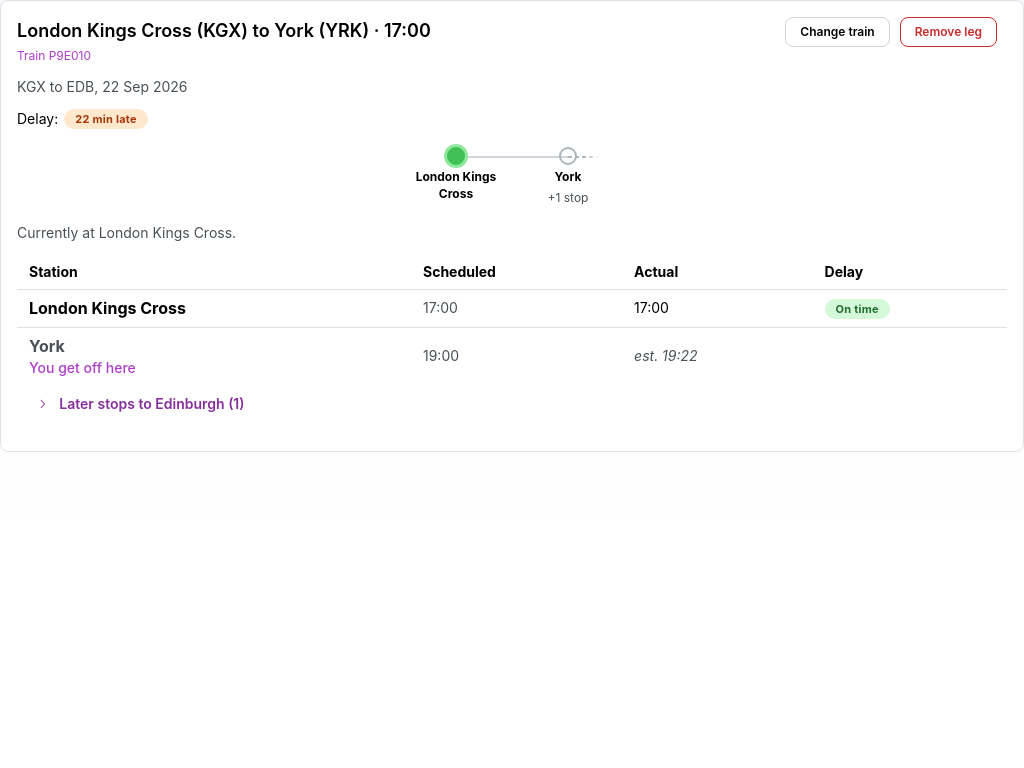
Test case: JourneyLegCard › clicking "Change train" toggles the candidate picker open
Click the button "Change train". click: (837, 32)
box: [785, 17, 890, 47]
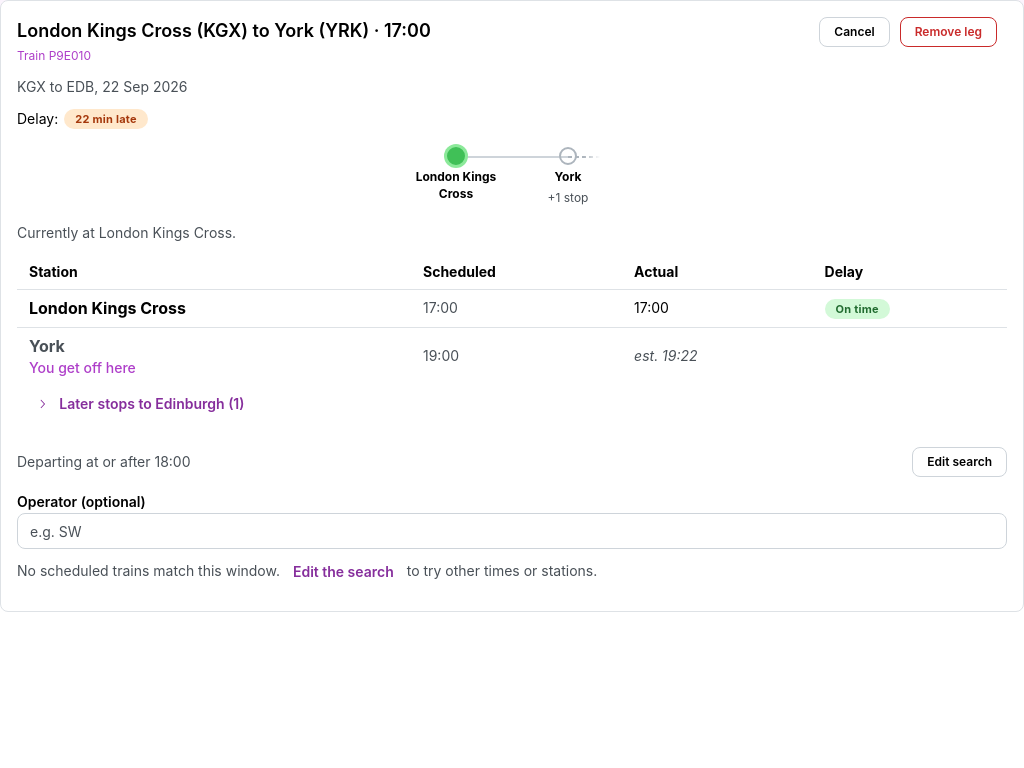
Check: the button "Cancel" is shown, box [819, 17, 890, 47]
